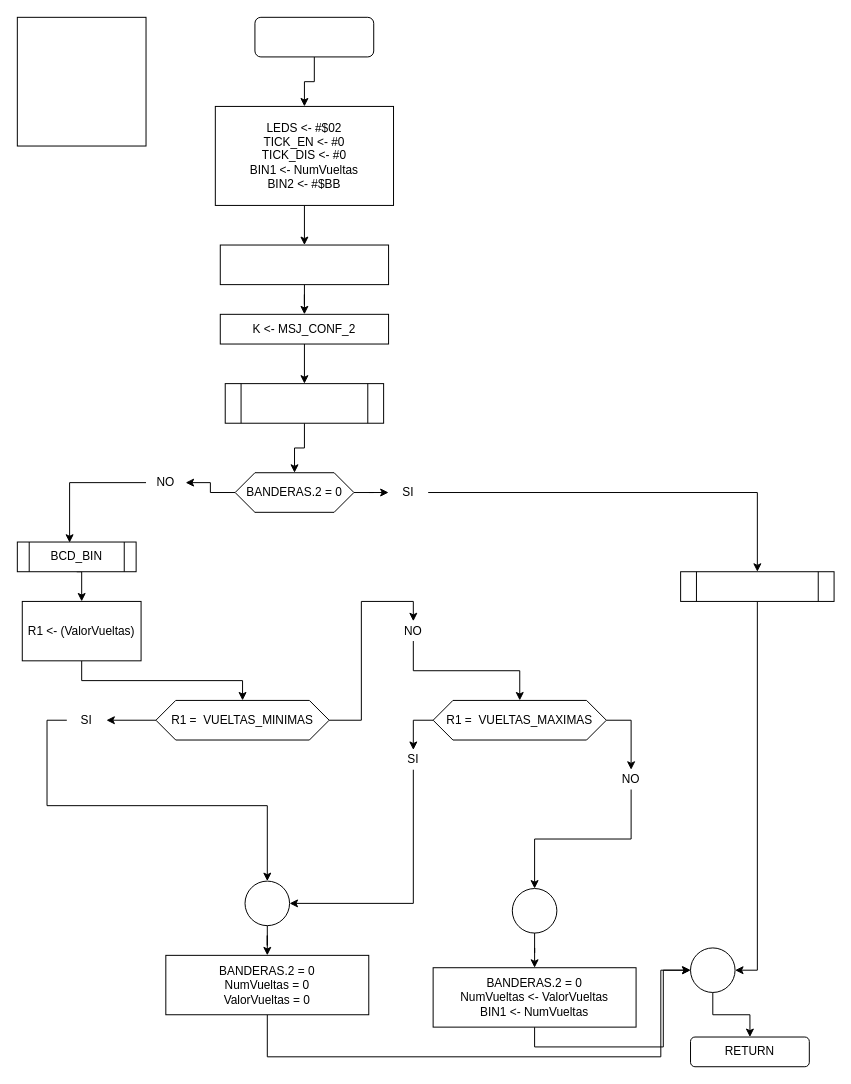
This 851x1084 diagram has some shape labels left out. The centre of each missing label's shape, as x and y in pixels:
C - carry K. - Y J - X R1 - A R2 - B RR1 - D: (x=81, y=81)
CARGAR_LCD: (x=304, y=403)
CONFIG: (x=314, y=36)
J <- MSJ_CONF_1: (x=304, y=264)
TAREA_TECLADO: (x=757, y=586)
